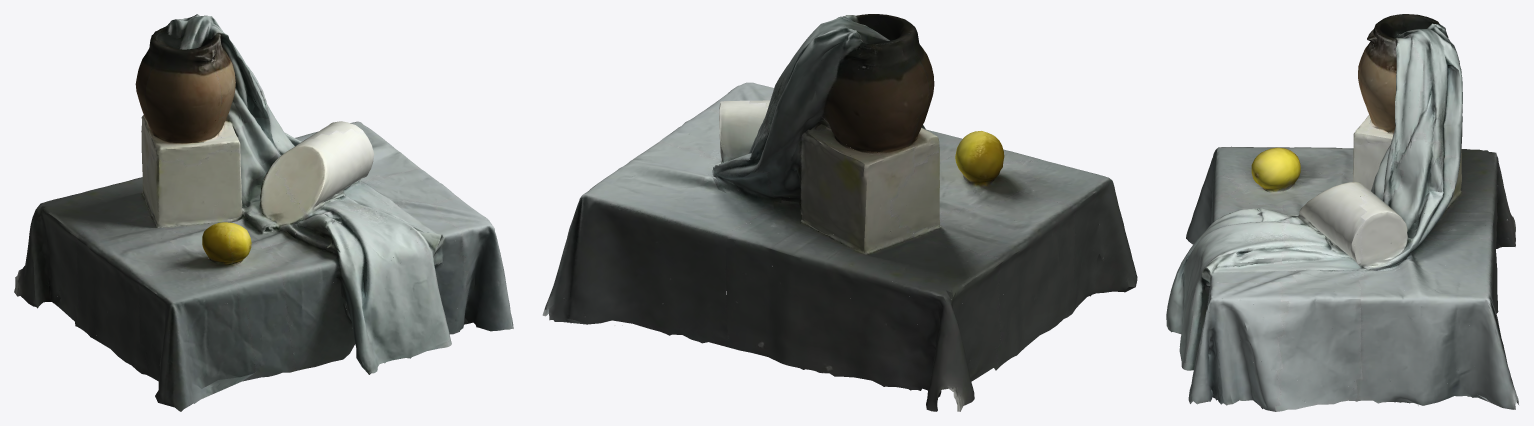
Rendered from 静物_其它_陶罐柠檬衬布01_opt.glb.
3 renders of one model, left to right at view 1: azimuth 30°, elevation 25°; view 2: azimuth 150°, elevation 25°; view 3: azimuth 270°, elevation 25°, orthographic. The views are drawn at different scales.
Visible parts, largest first — view 1: defaultMat, defaultMat_1; view 2: defaultMat, defaultMat_1; view 3: defaultMat, defaultMat_1.
Boxes of the visible parts, <box> form: defaultMat: <box>14,14,513,411</box>; defaultMat_1: <box>15,16,513,408</box>; defaultMat: <box>542,14,1137,411</box>; defaultMat_1: <box>546,15,1136,404</box>; defaultMat: <box>1166,14,1518,411</box>; defaultMat_1: <box>1170,16,1512,411</box>.
Bounding box in the file's own units: 0.4165 × 0.3 × 0.3452.
Materials: 1 (1 with a texture image).
